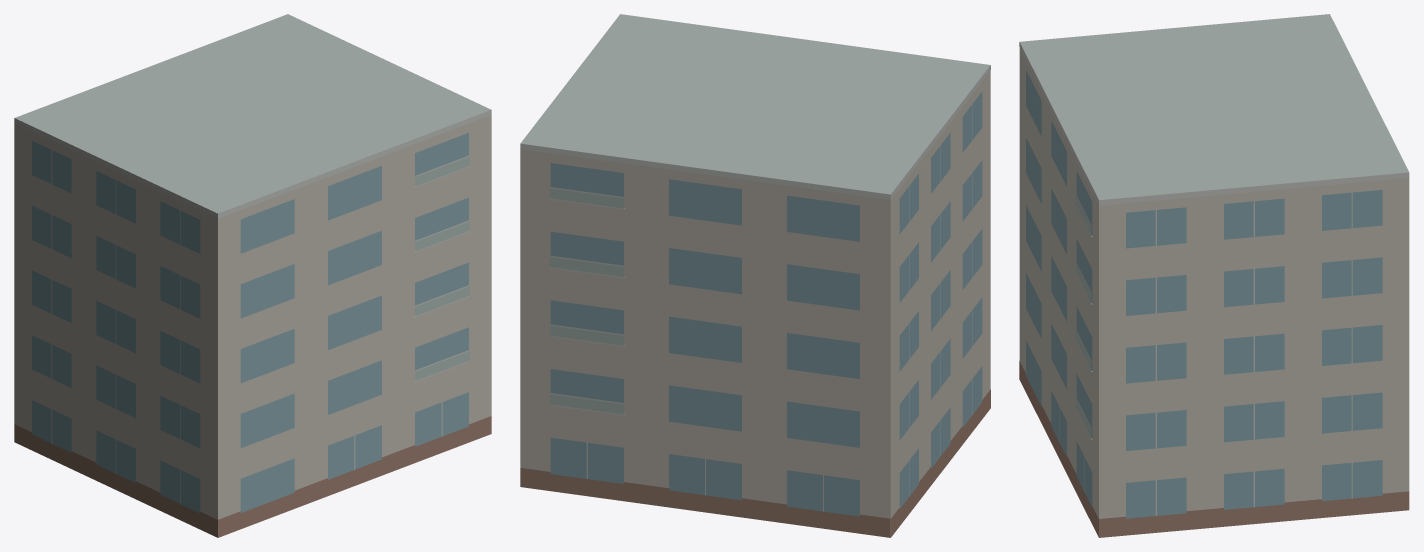
File: survey-upis-33019788.glb
The picture shows the model from 3 angles, left to right: view 1: azimuth 30°, elevation 25°; view 2: azimuth 150°, elevation 25°; view 3: azimuth 270°, elevation 25°; orthographic projection. The views are drawn at different scales.
Parts seen in each view (by area): view 1: survey-upis-33019788.tmp; view 2: survey-upis-33019788.tmp; view 3: survey-upis-33019788.tmp.
Boxes of the visible parts, x1=… form: survey-upis-33019788.tmp: x1=14, y1=14, x2=491, y2=537; survey-upis-33019788.tmp: x1=520, y1=14, x2=990, y2=537; survey-upis-33019788.tmp: x1=1019, y1=14, x2=1409, y2=537.
Size of the model in its own units: 18.33 by 15.5 by 16.23.
